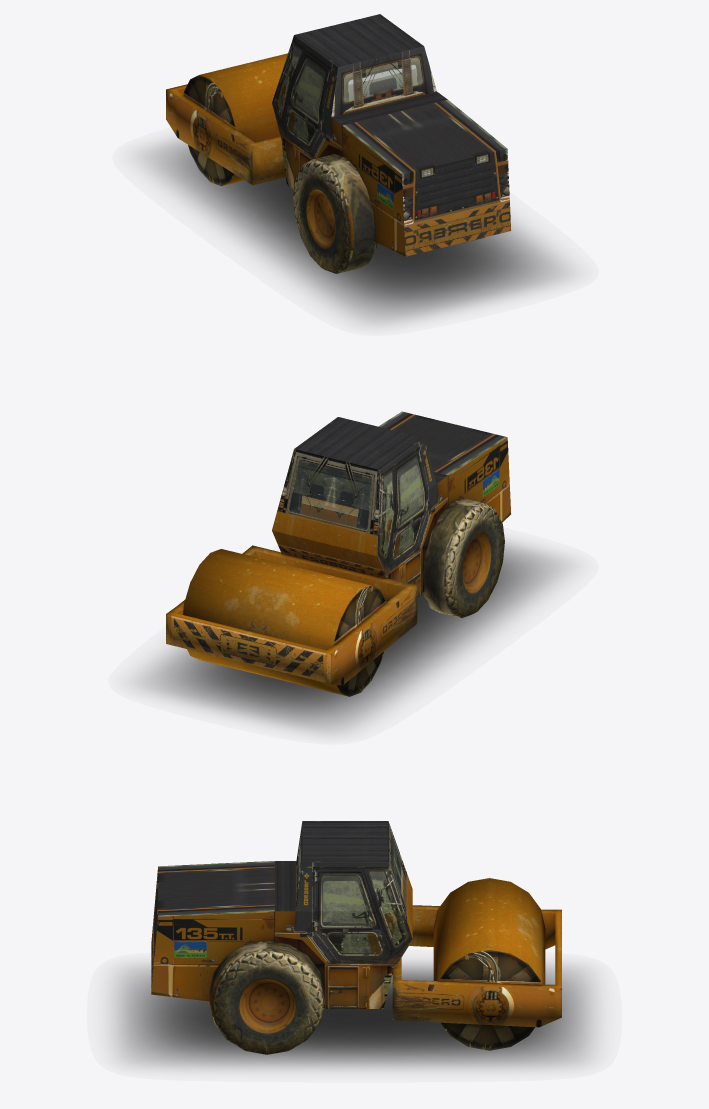
The model's file is Steamroller.gltf.
3 views of the same model, one above another, from view 1: azimuth 30°, elevation 25°; view 2: azimuth 150°, elevation 25°; view 3: azimuth 270°, elevation 25° (orthographic). The views are drawn at different scales.
Parts seen in each view (by area): view 1: Steamroller; view 2: Steamroller; view 3: Steamroller.
Boxes of the visible parts, left/top/right/bottom form: Steamroller: left=143, top=14, right=567, bottom=322; Steamroller: left=140, top=411, right=566, bottom=731; Steamroller: left=115, top=821, right=594, bottom=1068.
Bounding box in the file's own units: 6.57 × 3.43 × 11.9.
